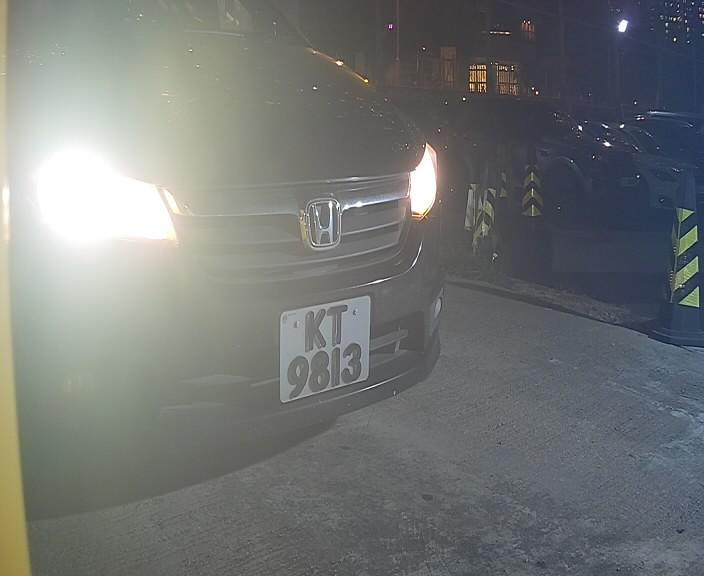privatecar: (1, 7, 450, 465)
